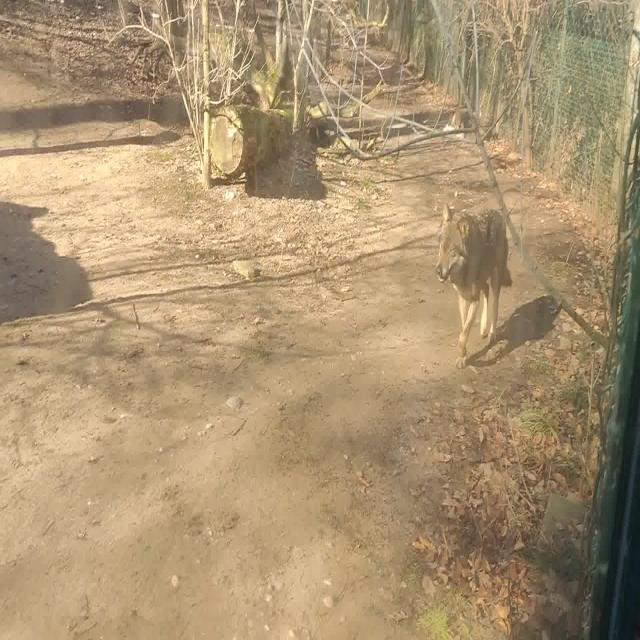dog: (436, 203, 513, 369)
